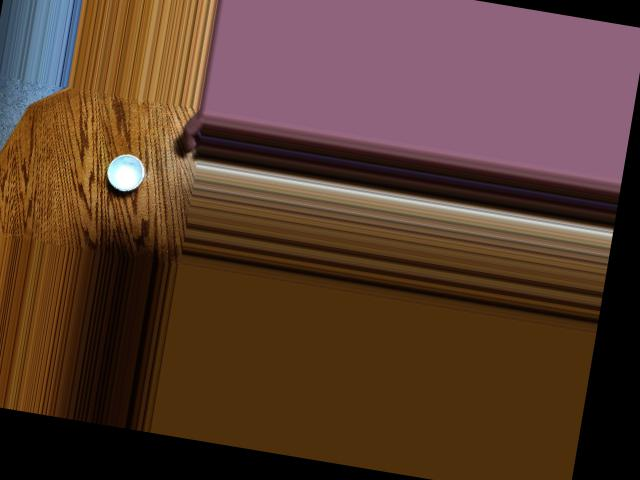cotage: (104, 147, 150, 193)
